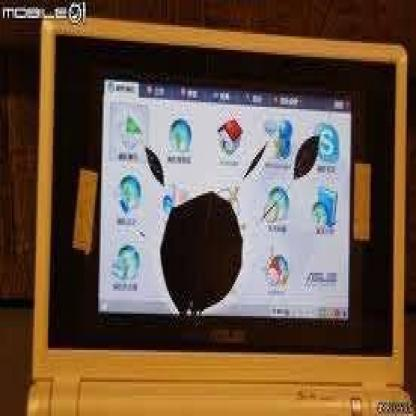crack: (130, 122, 324, 314)
spot: (158, 189, 244, 309), (137, 141, 172, 193), (291, 129, 322, 186), (238, 136, 271, 189)
